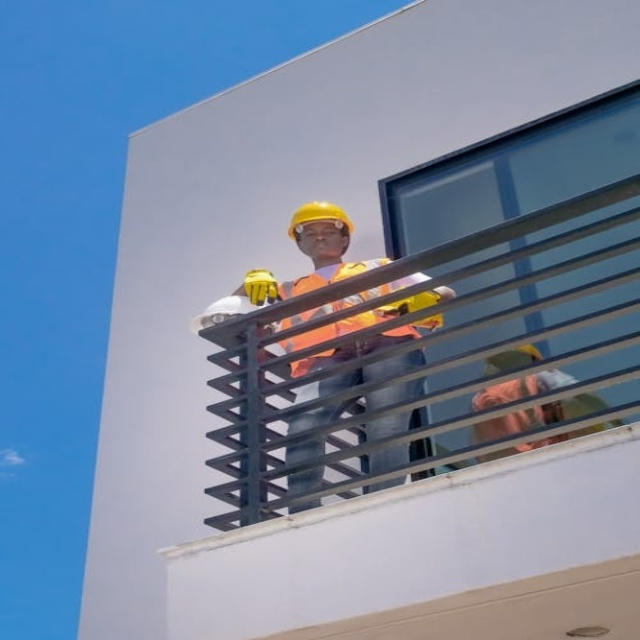Guantes: (241, 265, 287, 306)
Sin_gafas: (293, 223, 342, 238)
Sin_mascara: (302, 238, 339, 252)
